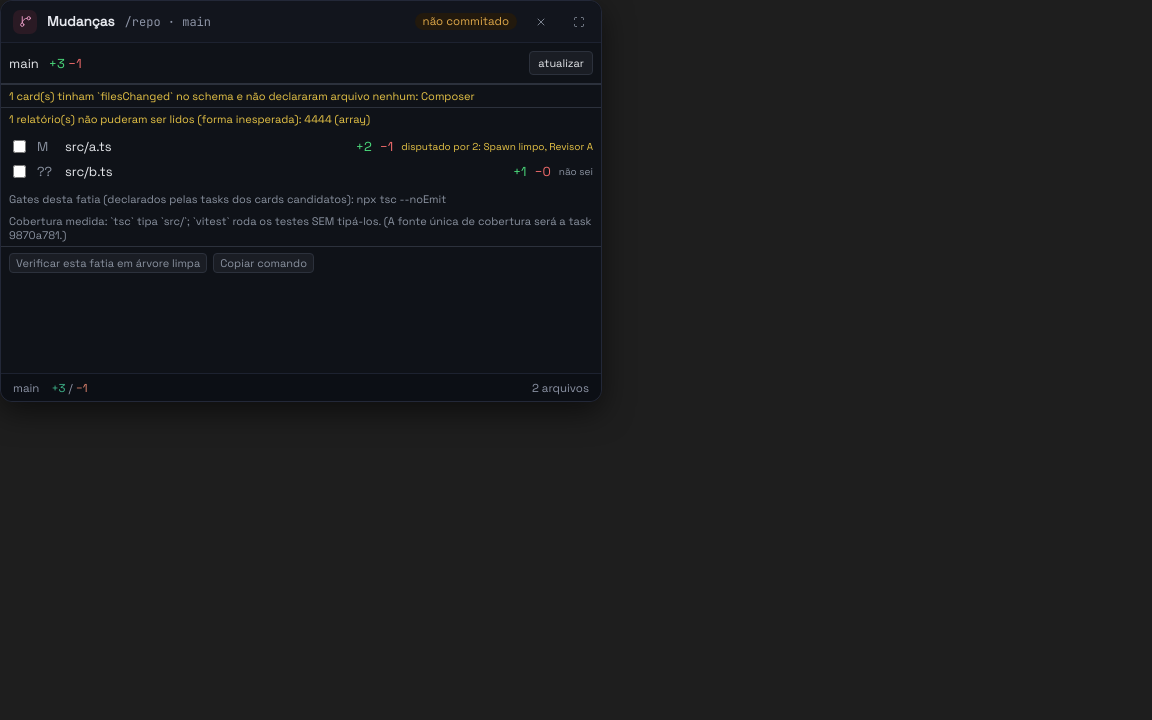
Test: ChangesCard — a fatia › o resultado mostra o veredito, a via de cada arquivo e o passo que falhou
Click the checkbox in the row of "src/a.ts".
click(20, 146)  # box x1=13 y1=140 x2=26 y2=153
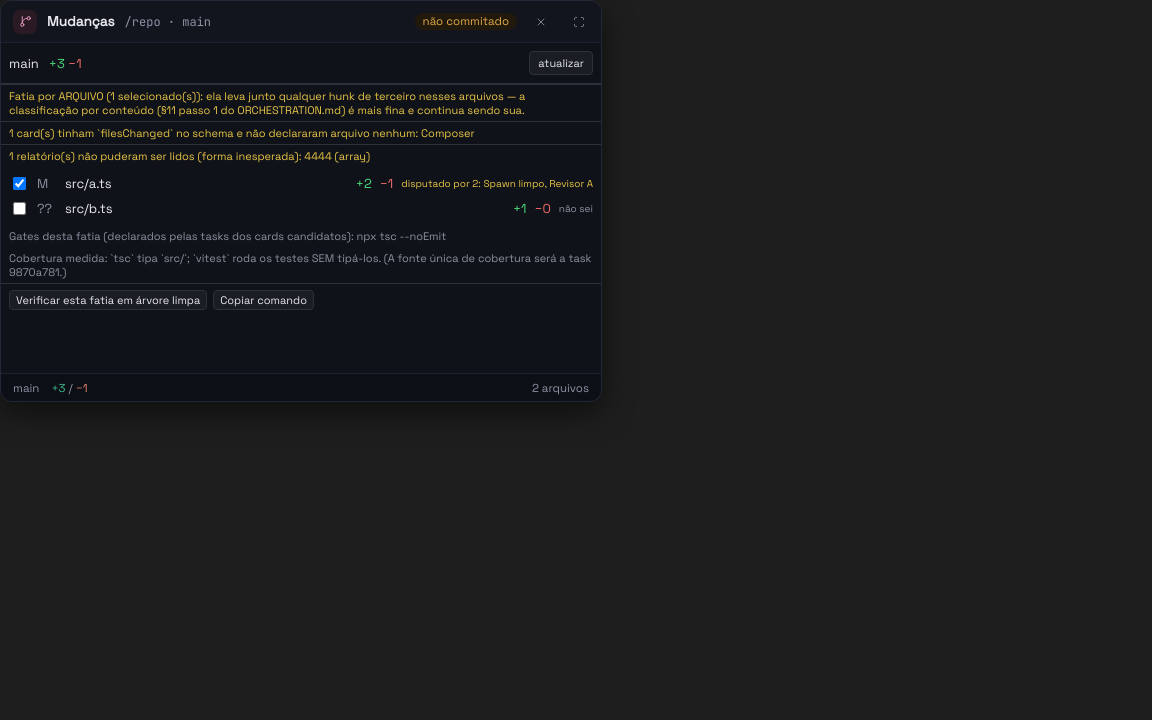
Click the button "Verificar esta fatia em árvore limpa".
click(108, 300)  # box x1=9 y1=290 x2=207 y2=310
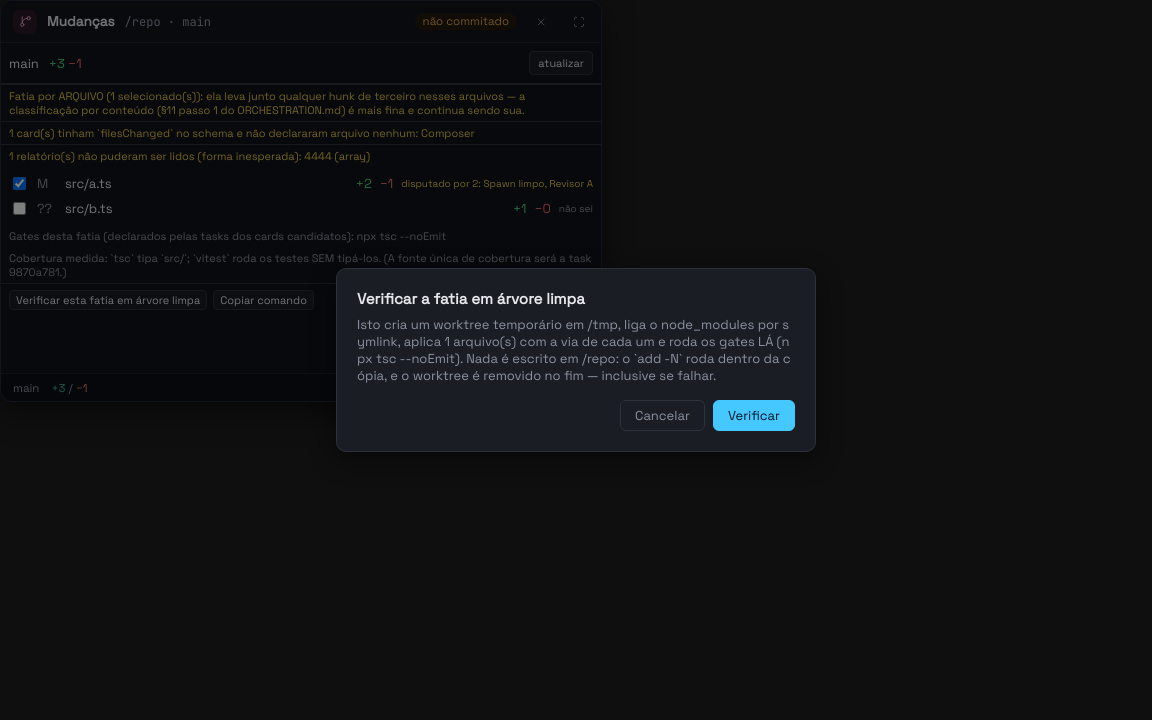
Click the button "Verificar".
click(754, 416)  # box x1=713 y1=400 x2=795 y2=431
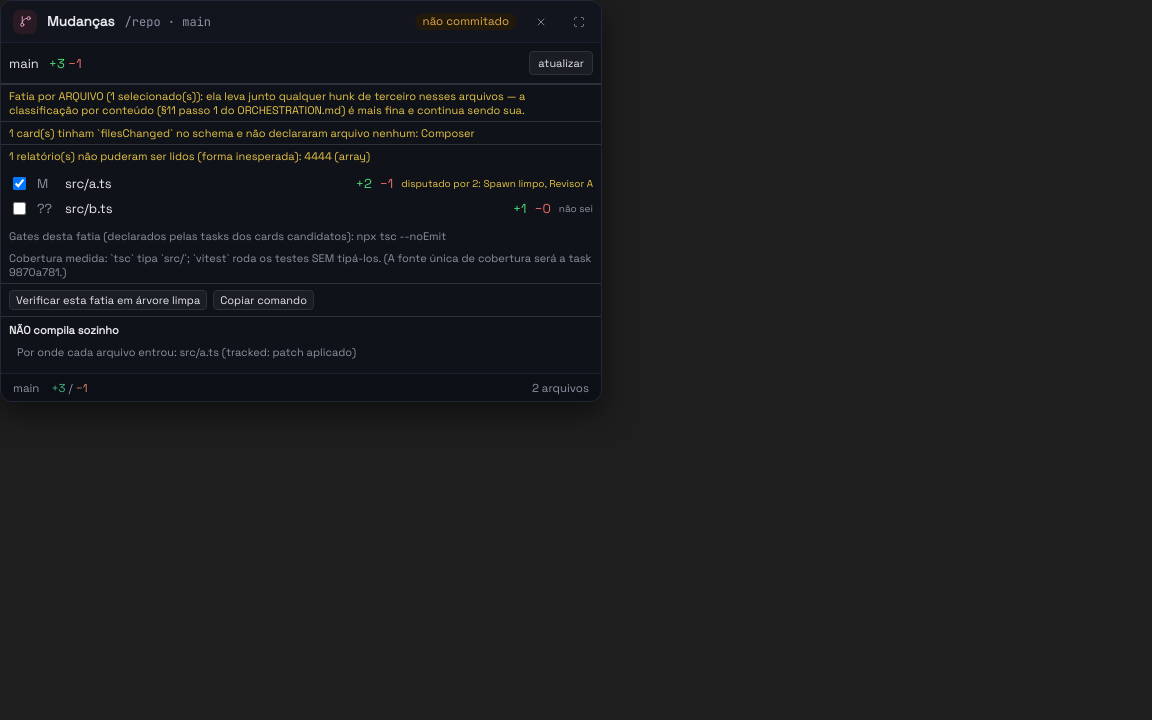
Check: the element that starts with "NÃO compila sozinho" is shown, box x1=9 y1=323 x2=119 y2=337
Check: the element that starts with "NÃO compila sozinho" shows "tracked: patch aplicado", box x1=180 y1=345 x2=356 y2=359
